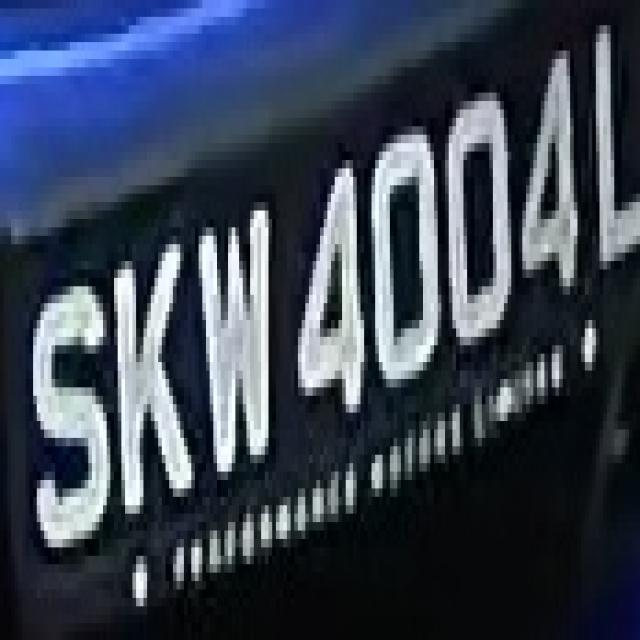0: (368, 101, 438, 396), (445, 59, 508, 354)
4: (283, 143, 375, 413), (508, 34, 592, 312)
K: (103, 219, 199, 530)
L: (581, 9, 636, 303)
S: (22, 244, 118, 564)
W: (191, 168, 287, 488)
